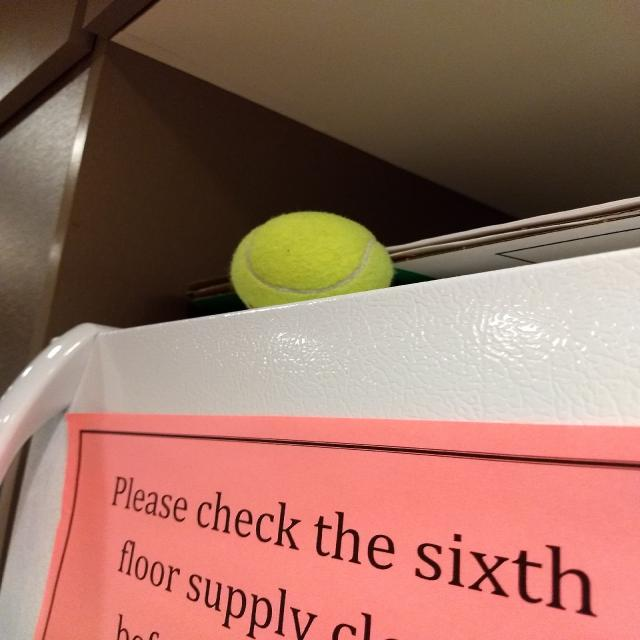Tennis-Ball: (230, 207, 402, 313)
